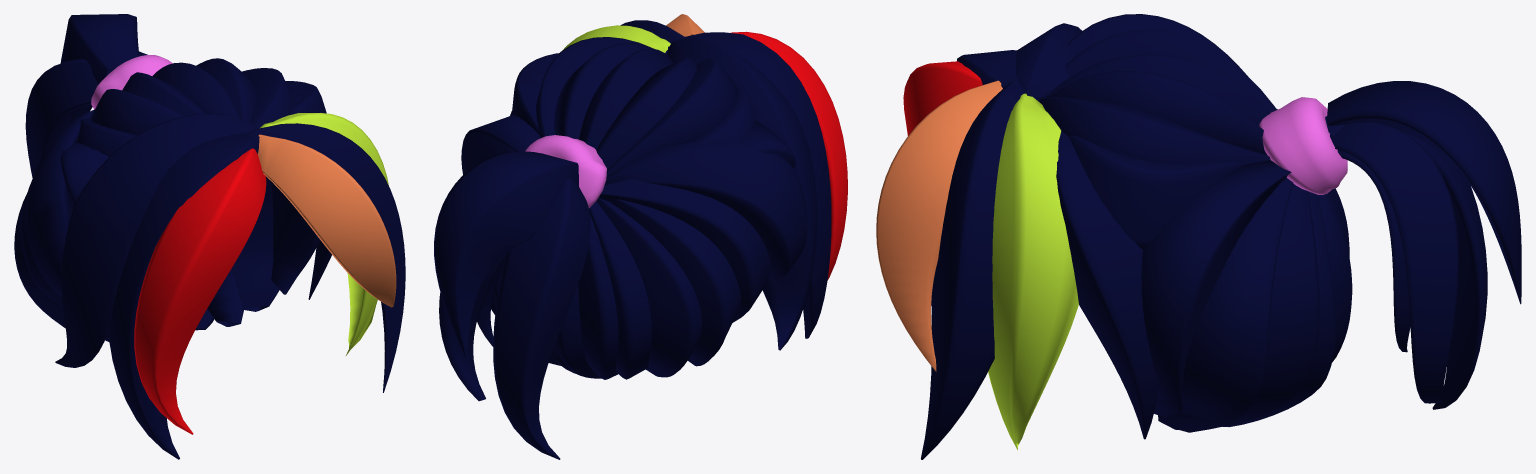
The model's file is hair_multicolor.glb.
3 views of the same model, side by side, from view 1: azimuth 30°, elevation 25°; view 2: azimuth 150°, elevation 25°; view 3: azimuth 270°, elevation 25° (orthographic). The views are drawn at different scales.
Visible parts, largest first — view 1: PonyTail; view 2: PonyTail; view 3: PonyTail.
Part boxes in pixels (bbox=[...]): PonyTail: bbox=[14, 14, 405, 459]; PonyTail: bbox=[434, 14, 847, 459]; PonyTail: bbox=[876, 14, 1521, 459].
Bounding box in the file's own units: 0.4366 × 0.4117 × 0.6202.
